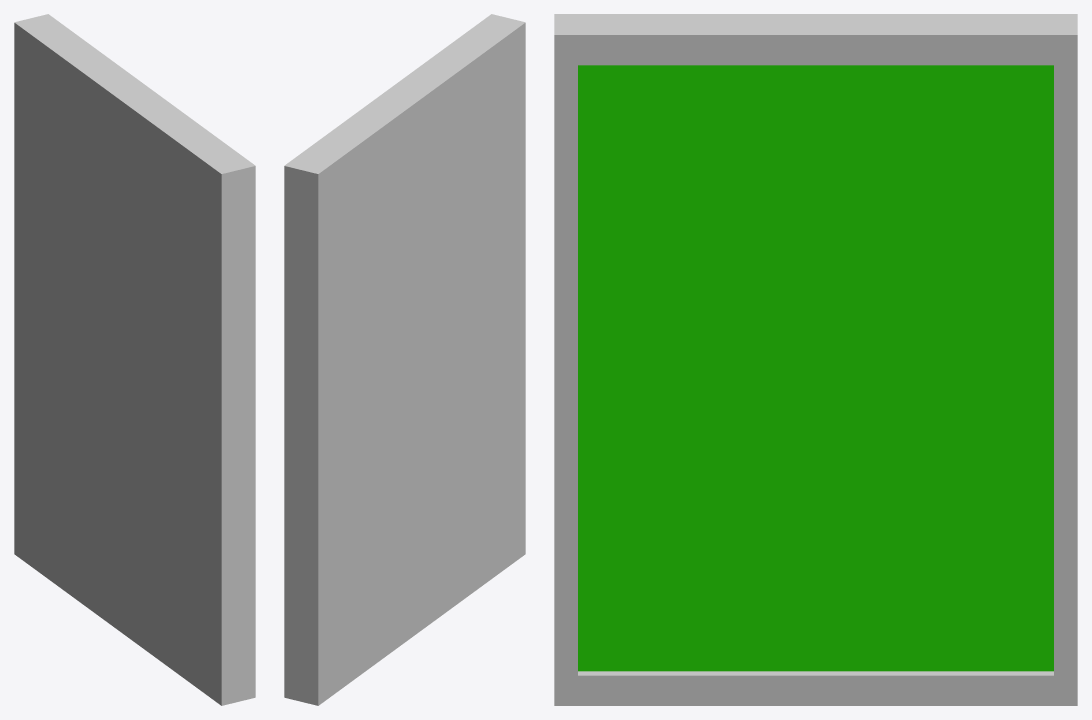
Rendered from Frame.fbx.
3 views of the same model, side by side, from view 1: azimuth 30°, elevation 25°; view 2: azimuth 150°, elevation 25°; view 3: azimuth 270°, elevation 25° (orthographic). The views are drawn at different scales.
Visible parts, largest first — view 1: Cube.024; view 2: Cube.024; view 3: Cube.024.
Part boxes in pixels (left/top/right/bottom): Cube.024: left=14, top=14, right=255, bottom=705; Cube.024: left=284, top=14, right=525, bottom=705; Cube.024: left=554, top=14, right=1077, bottom=705.
Bounding box in the file's own units: 9.4 × 140 × 98.73.
